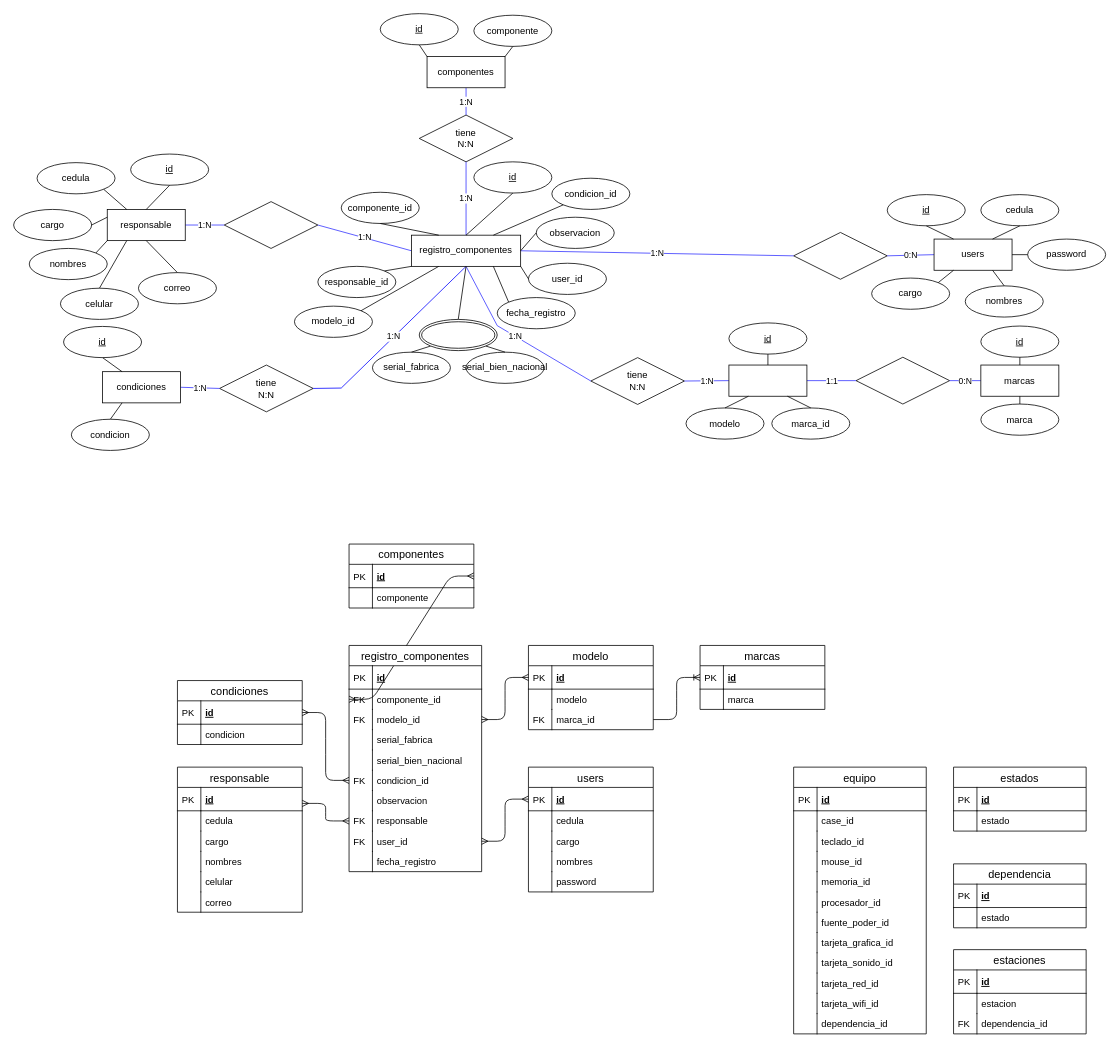
The diagram is 1119 pixels wide and 1050 high, and some of its shapes have lost their labels. Here are the shapes that lost their labels. From the top down, the centre of each, then its label:
the point at 270,224: trae N:N
the point at 840,255: puede N:N
the point at 457,335: serial
the point at 767,380: modelos
the point at 902,380: tiene 1:N
